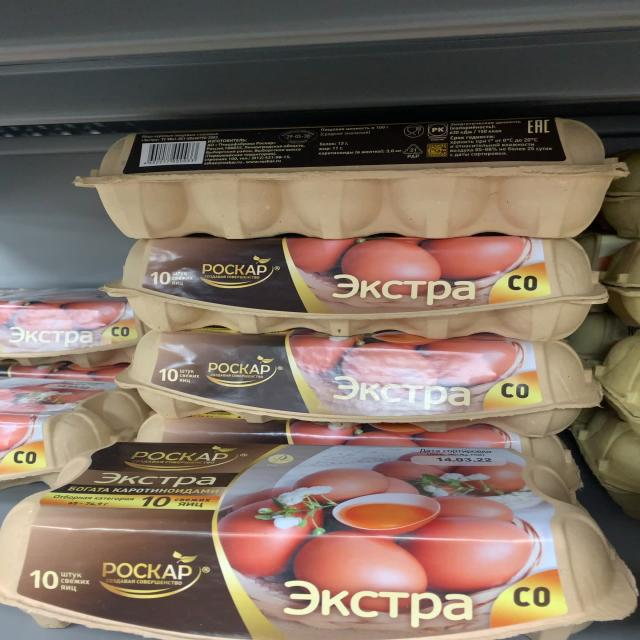egg box: (15, 441, 628, 630), (77, 124, 630, 233), (116, 241, 608, 340), (128, 344, 604, 433)
